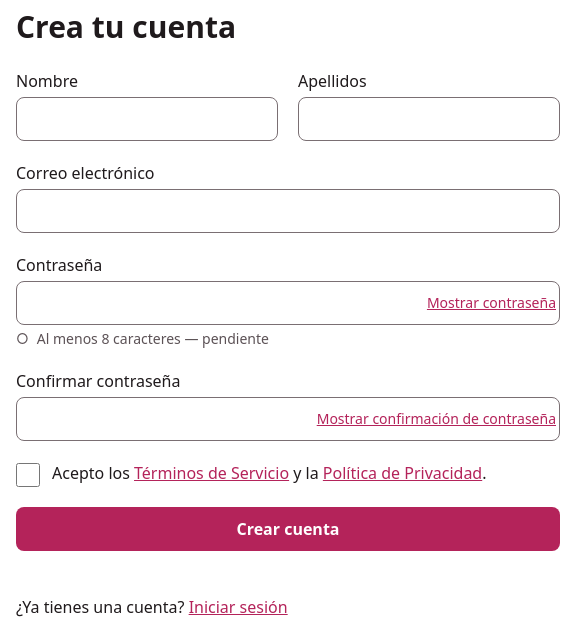
Test: RegisterPage › structure and accessibility › gives each show/hide toggle its own accessible name, so a screen reader user knows which field it controls
What coordinates should you click on to do the following:
click the button "Mostrar confirmación de contraseña"
I would click on:
 (436, 419)
Its box is [317,397,556,441].
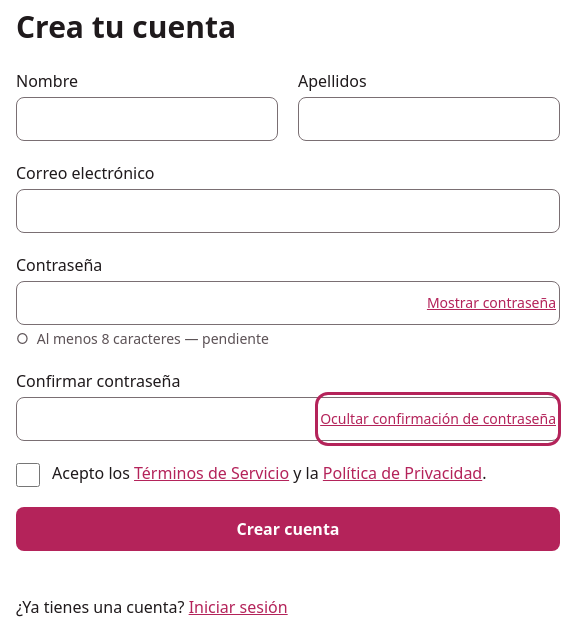
Check: the button "Ocultar confirmación de contraseña" is shown, box [320,397,556,441]
What coordinates should you click on to do the following:
click the button "Mostrar contraseña"
I would click on:
 (491, 303)
Its box is [427,281,556,325].
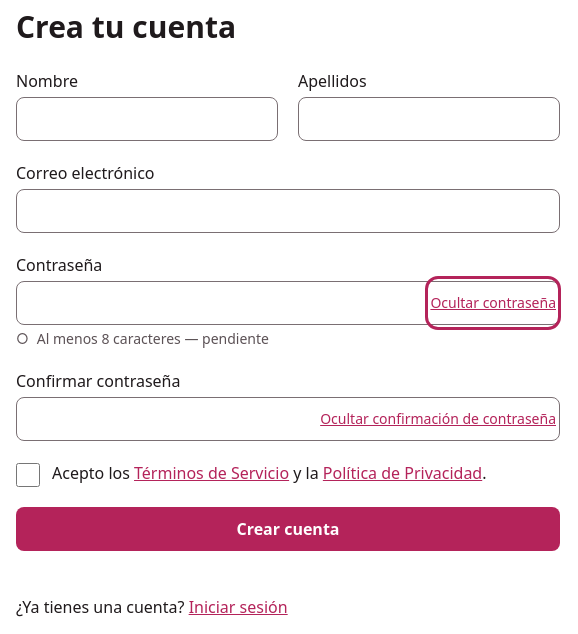
Check: the button "Ocultar contraseña" is shown, box [430,281,556,325]
